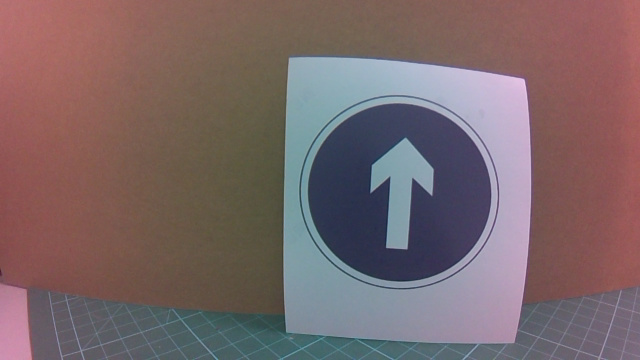forward: (330, 93, 513, 299)
